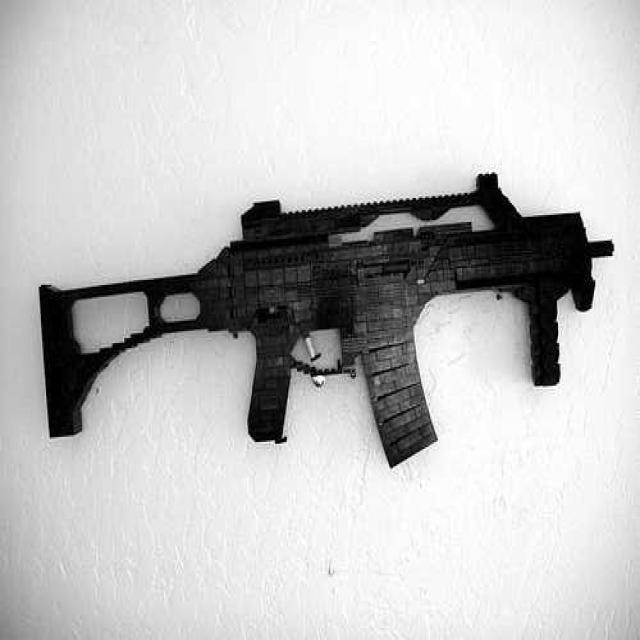Rifle: (27, 152, 622, 475)
